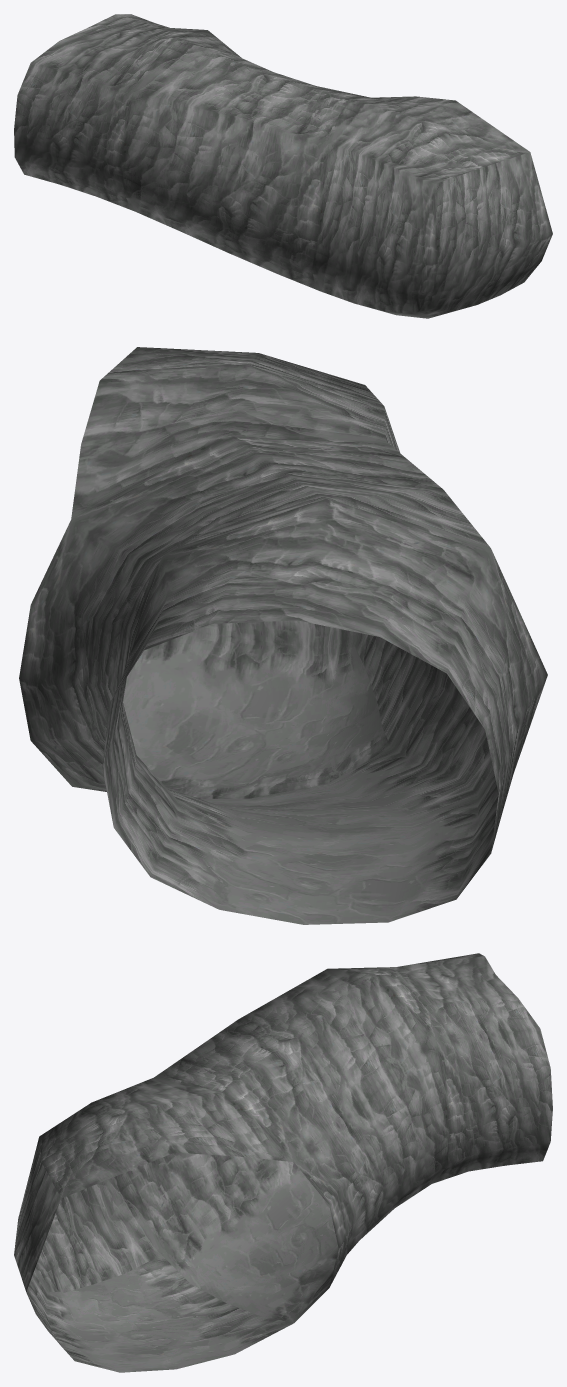
The model's file is SWORDLIGHT20_PS-AREA01_03.fbx.
3 renders of one model, top to bottom at view 1: azimuth 30°, elevation 25°; view 2: azimuth 150°, elevation 25°; view 3: azimuth 270°, elevation 25°, orthographic. The views are drawn at different scales.
Parts seen in each view (by area): view 1: SWORDLIGHT20_PS-AREA01_03; view 2: SWORDLIGHT20_PS-AREA01_03; view 3: SWORDLIGHT20_PS-AREA01_03.
Part boxes in pixels (x1,y1,x2,y2): SWORDLIGHT20_PS-AREA01_03: [14, 14, 552, 318]; SWORDLIGHT20_PS-AREA01_03: [19, 347, 547, 924]; SWORDLIGHT20_PS-AREA01_03: [14, 953, 552, 1372].
Size of the model in its own units: 172524 by 106577 by 186289.
3 materials, 3 textured.
